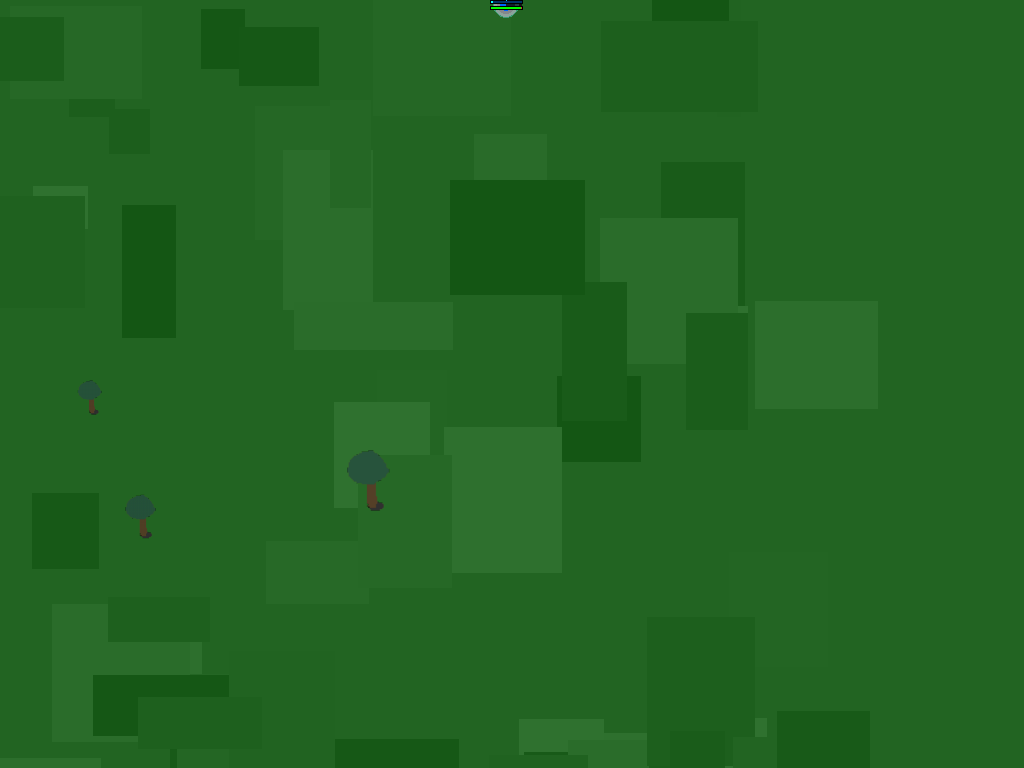Bunker: (487, 0, 526, 39)
